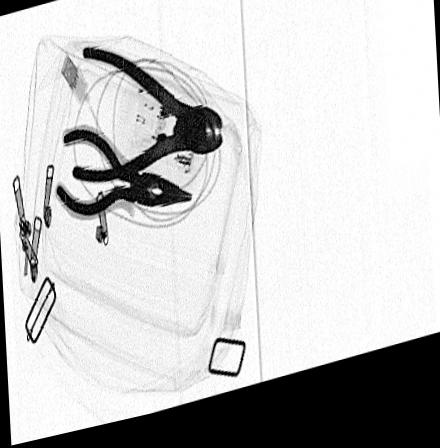Pliers: (71, 44, 226, 189), (53, 125, 194, 226)
